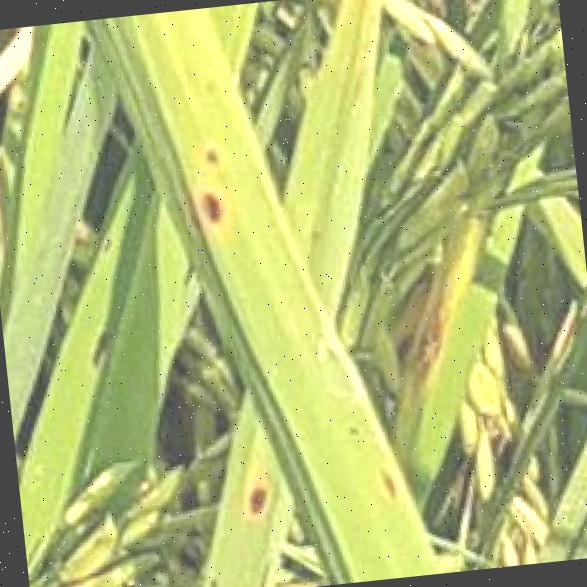Brown_Spot: (177, 181, 234, 229), (236, 470, 278, 524), (375, 460, 413, 505), (188, 136, 219, 162)
